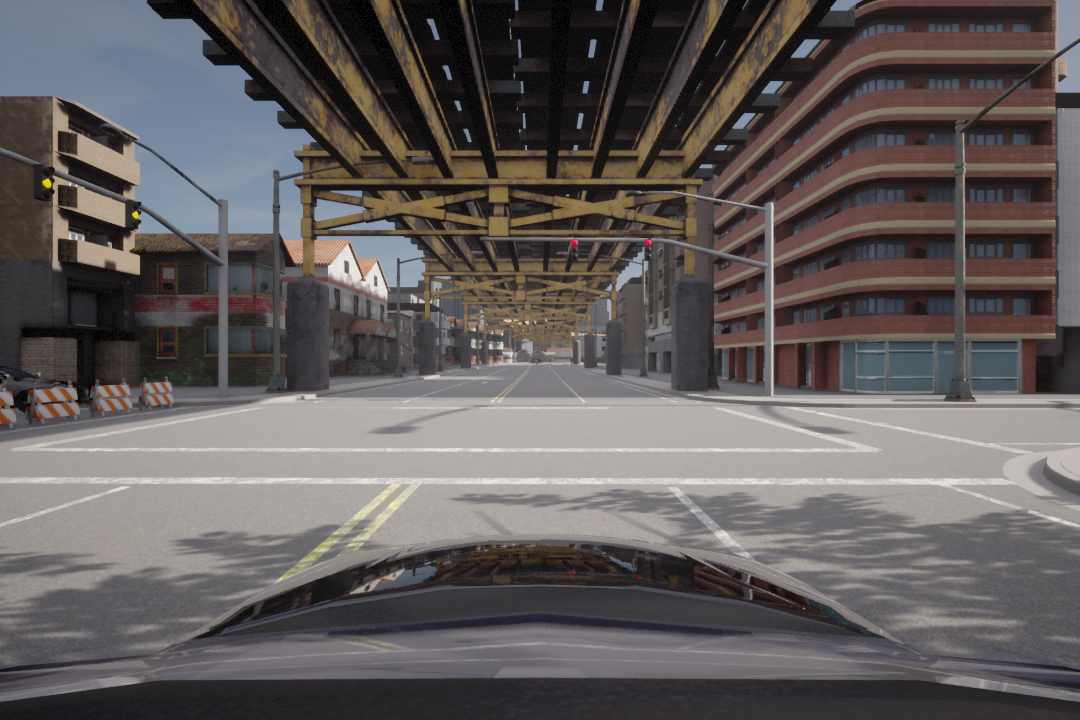TrafficLight: (32, 160, 59, 201), (124, 193, 144, 234), (565, 236, 581, 265), (641, 238, 653, 263)
